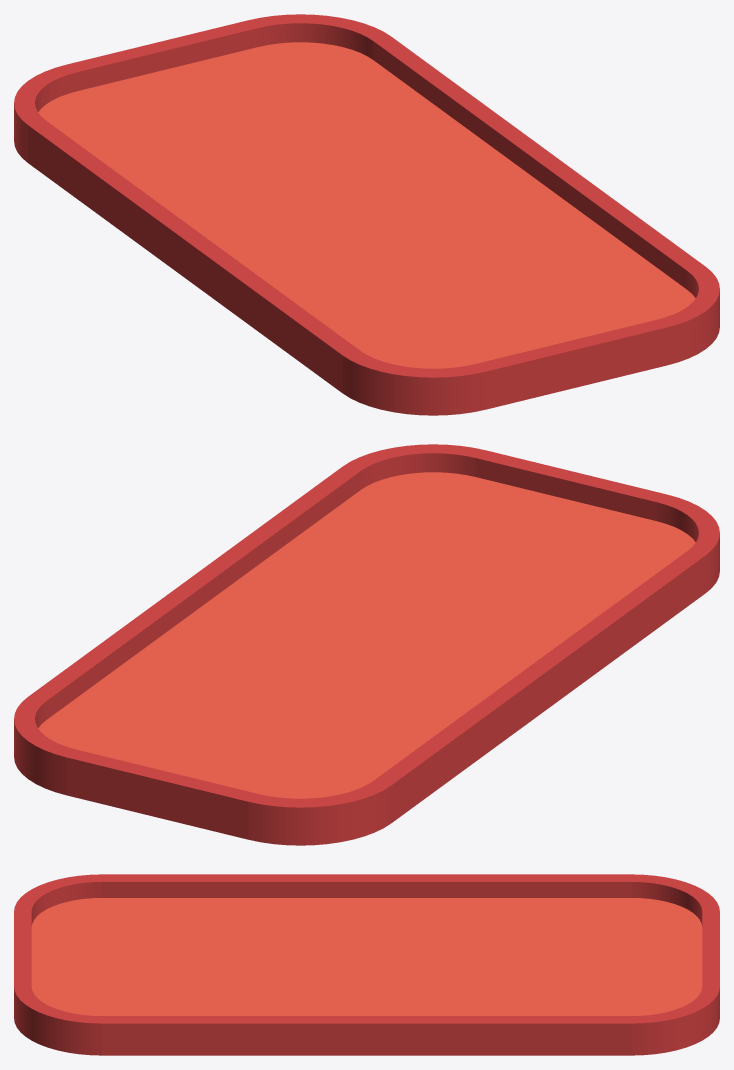
The picture shows the model from 3 angles, top to bottom: view 1: azimuth 30°, elevation 25°; view 2: azimuth 150°, elevation 25°; view 3: azimuth 270°, elevation 25°; orthographic projection. The views are drawn at different scales.
Parts seen in each view (by area): view 1: roof_flatCornerRoundOpen (×4), roof_flatEdge (×4); view 2: roof_flatCornerRoundOpen (×4), roof_flatEdge (×4); view 3: roof_flatEdge (×4), roof_flatCornerRoundOpen (×4).
Part boxes in pixels (bbox=[...]): roof_flatCornerRoundOpen (×4): bbox=[14, 14, 719, 415]; roof_flatEdge (×4): bbox=[80, 75, 652, 354]; roof_flatCornerRoundOpen (×4): bbox=[14, 444, 719, 845]; roof_flatEdge (×4): bbox=[81, 505, 653, 784]; roof_flatEdge (×4): bbox=[190, 874, 543, 1055]; roof_flatCornerRoundOpen (×4): bbox=[14, 874, 719, 1055].
Size of the model in its own units: 20 by 2 by 40.
